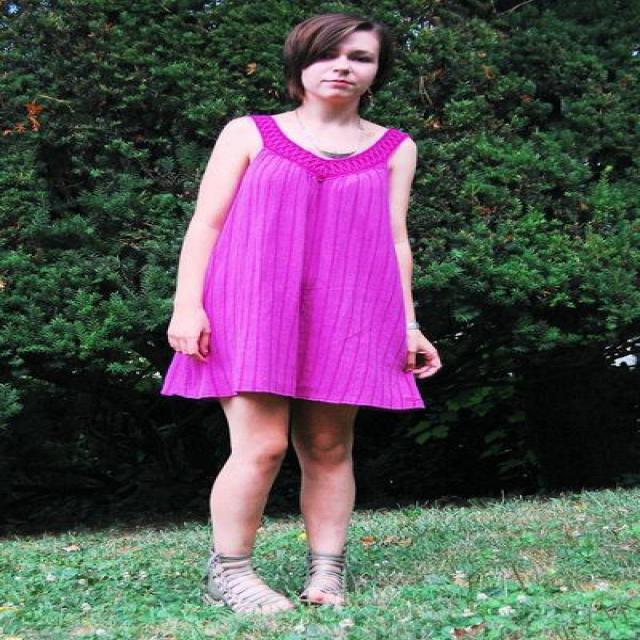dress: (162, 115, 424, 409)
shoe: (211, 551, 344, 620)
